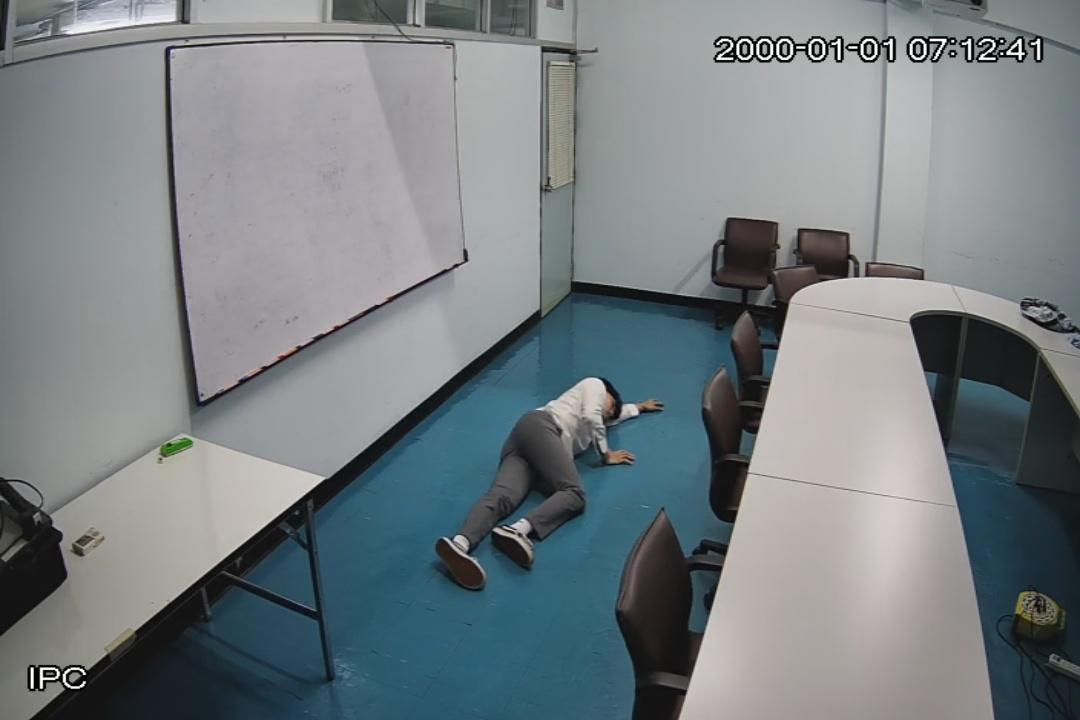fall: (428, 362, 663, 592)
